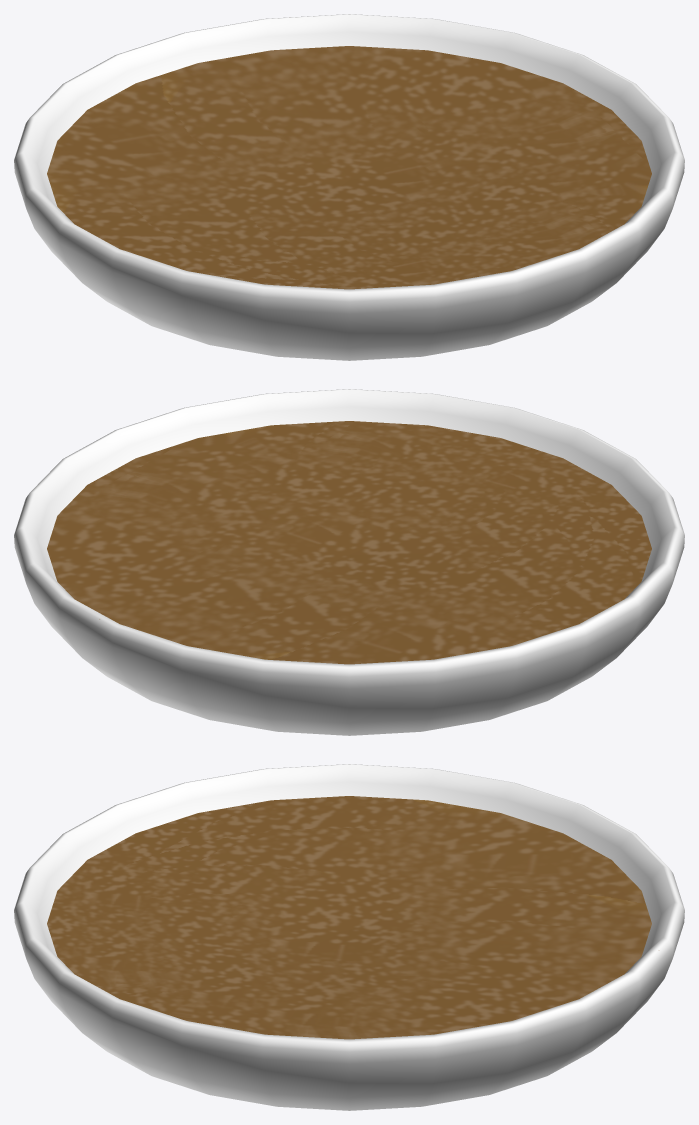
Rendered from bean _paste.fbx.
The picture shows the model from 3 angles, top to bottom: view 1: azimuth 30°, elevation 25°; view 2: azimuth 150°, elevation 25°; view 3: azimuth 270°, elevation 25°; orthographic projection.
Visible parts, largest first — view 1: cup_jar_powder_water2:dipping_bowl; view 2: cup_jar_powder_water2:dipping_bowl; view 3: cup_jar_powder_water2:dipping_bowl.
Part boxes in pixels (x1,y1,x2,y2): cup_jar_powder_water2:dipping_bowl: (14,14,684,360); cup_jar_powder_water2:dipping_bowl: (14,389,684,735); cup_jar_powder_water2:dipping_bowl: (14,764,684,1110).
Bounding box in the file's own units: 721 × 137 × 721.
1 material, 1 textured.
